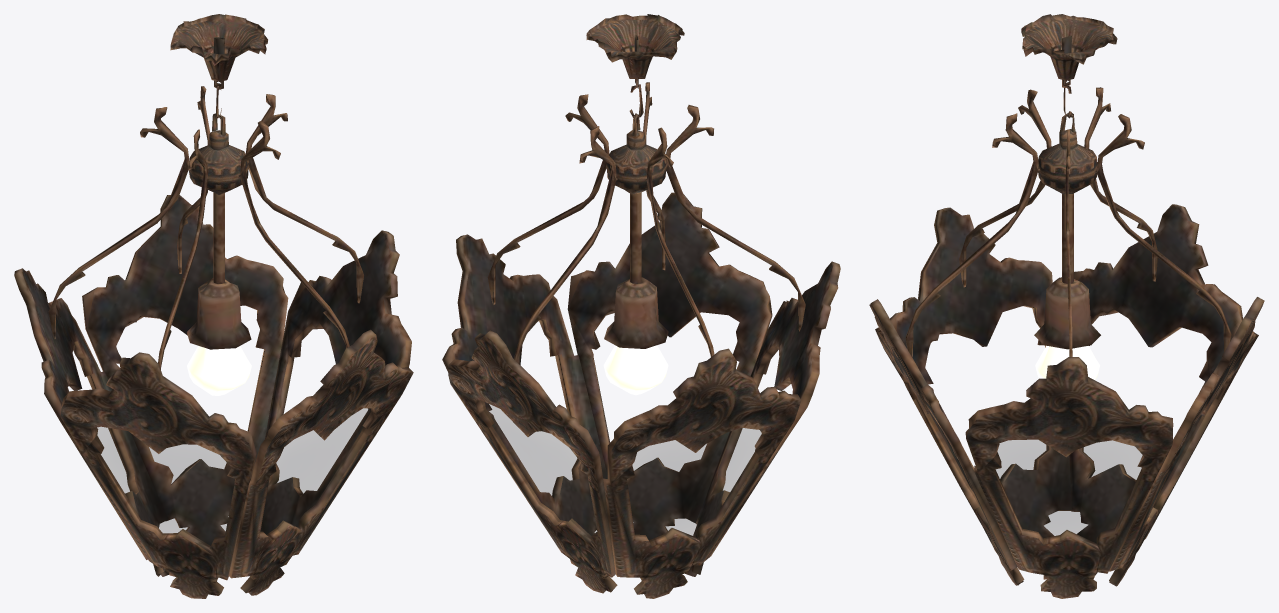
Rendered from lantern_chandelier_01.glb.
3 renders of one model, left to right at view 1: azimuth 30°, elevation 25°; view 2: azimuth 150°, elevation 25°; view 3: azimuth 270°, elevation 25°, orthographic.
Visible parts, largest first — view 1: lantern_chandelier_01; view 2: lantern_chandelier_01; view 3: lantern_chandelier_01.
Boxes of the visible parts, bbox=[...] form: lantern_chandelier_01: bbox=[14, 14, 413, 598]; lantern_chandelier_01: bbox=[442, 14, 840, 598]; lantern_chandelier_01: bbox=[869, 14, 1264, 598].
Bounding box in the file's own units: 0.5792 × 0.8776 × 0.5746.
Materials: 3 (2 with a texture image).
